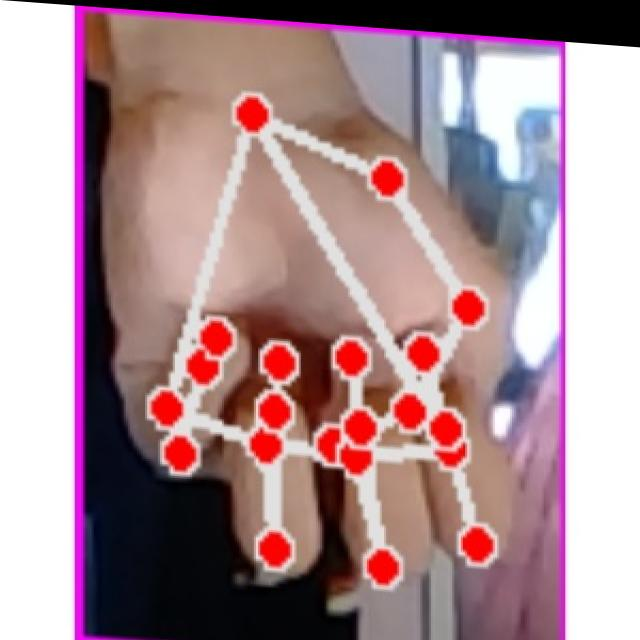M: (96, 52, 528, 615)
